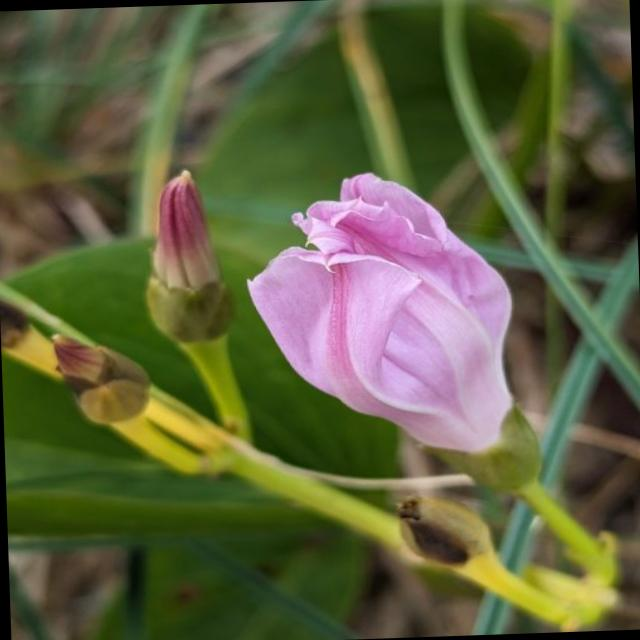ipomoea: (238, 165, 524, 464), (135, 165, 240, 348)
